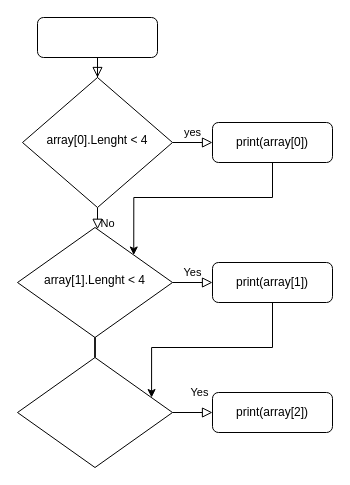
Image size: 350x485. Some labels were removed from this diagram. Here are the shapes that lost their labels. From the top down, the centre of each, then its label:
pixel 97 37: string [2] array
pixel 94 412: array[2].Lenght < 4
